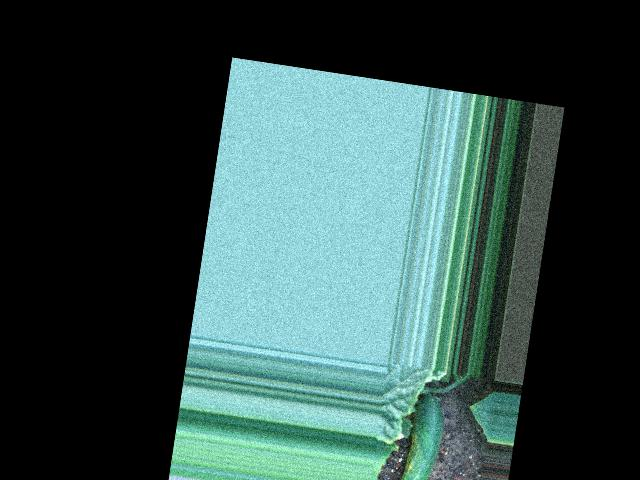cucumber: (397, 393, 447, 480)
